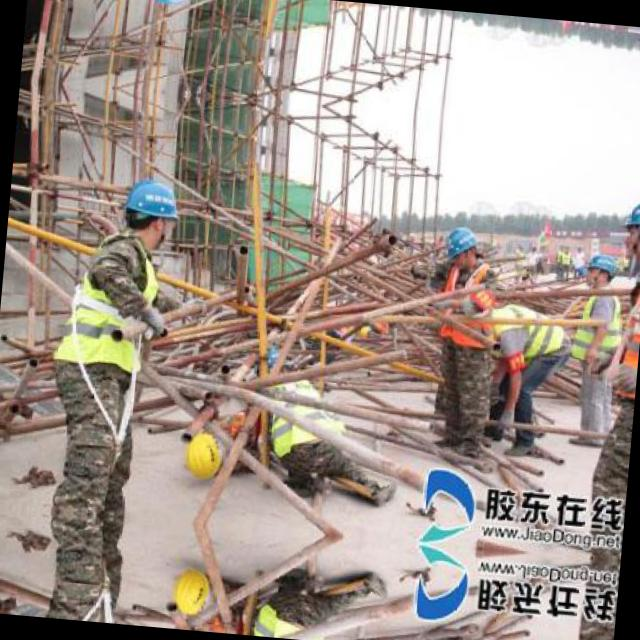helmet: (116, 171, 182, 247), (179, 424, 228, 484), (167, 562, 216, 621), (439, 218, 484, 268), (617, 181, 640, 259), (580, 250, 622, 292), (136, 0, 199, 13), (632, 26, 640, 85)
